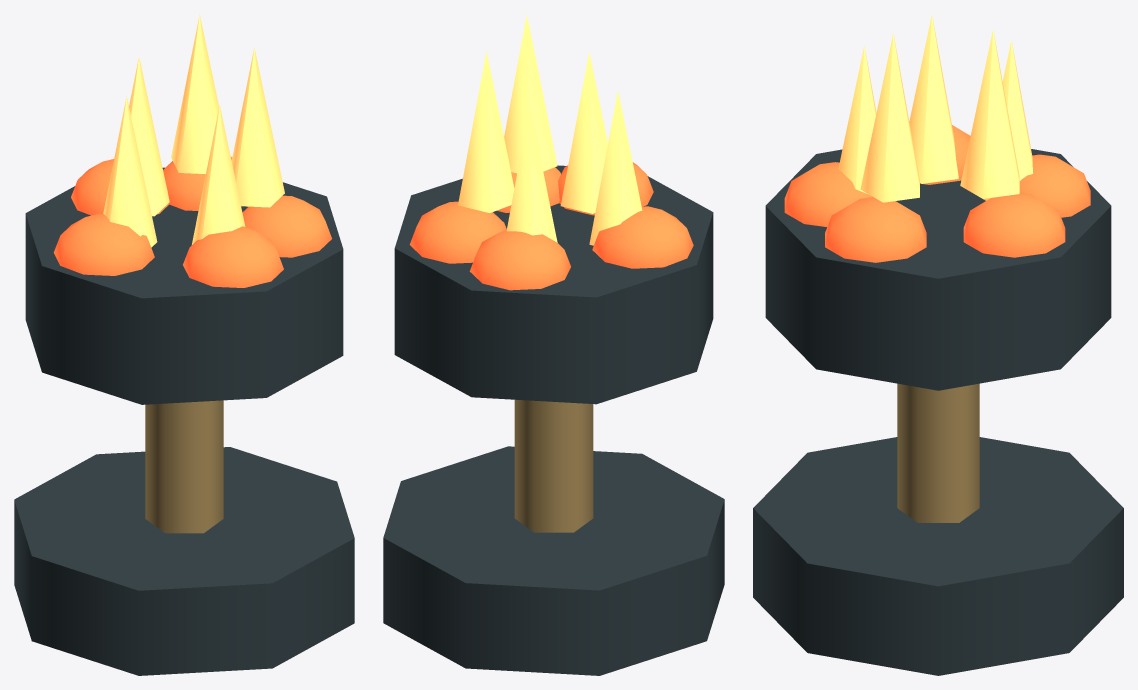
File: brazier.glb
3 views of the same model, side by side, from view 1: azimuth 30°, elevation 25°; view 2: azimuth 150°, elevation 25°; view 3: azimuth 270°, elevation 25° (orthographic). The views are drawn at different scales.
Parts seen in each view (by area): view 1: brazier-foot, brazier-bowl, brazier-flame (×5), ember-coal (×5), brazier-stem; view 2: brazier-foot, brazier-bowl, brazier-flame (×5), ember-coal (×5), brazier-stem; view 3: brazier-foot, brazier-bowl, brazier-flame (×5), ember-coal (×5), brazier-stem.
Part boxes in pixels (bbox=[...]): brazier-foot: bbox=[14, 447, 354, 675]; brazier-bowl: bbox=[25, 167, 343, 404]; brazier-flame (×5): bbox=[103, 14, 284, 247]; ember-coal (×5): bbox=[53, 156, 331, 287]; brazier-stem: bbox=[145, 400, 223, 533]; brazier-foot: bbox=[383, 446, 724, 675]; brazier-bowl: bbox=[394, 165, 713, 404]; brazier-flame (×5): bbox=[458, 14, 642, 245]; ember-coal (×5): bbox=[409, 162, 693, 290]; brazier-stem: bbox=[514, 399, 593, 532]; brazier-foot: bbox=[753, 437, 1123, 675]; brazier-bowl: bbox=[765, 149, 1111, 390]; brazier-flame (×5): bbox=[838, 15, 1032, 202]; ember-coal (×5): bbox=[784, 125, 1090, 262]; brazier-stem: bbox=[897, 383, 979, 522].
Size of the model in its own units: 0.9 by 1.58 by 0.9.
